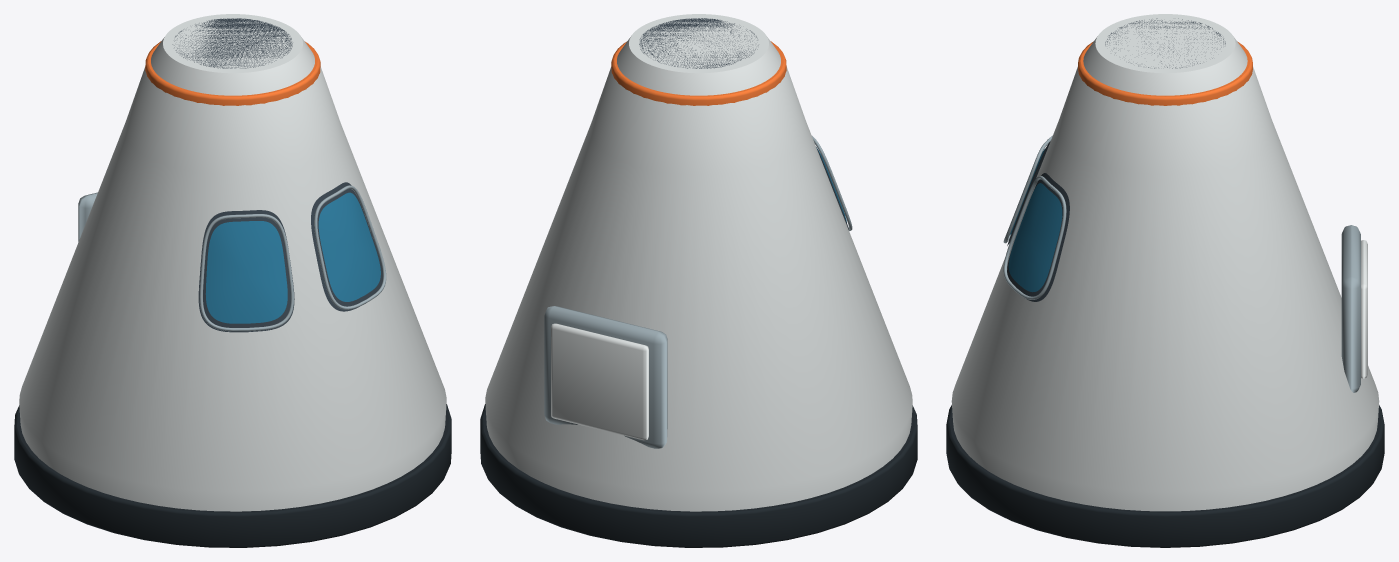
3 renders of one model, left to right at view 1: azimuth 30°, elevation 25°; view 2: azimuth 150°, elevation 25°; view 3: azimuth 270°, elevation 25°, orthographic.
Visible parts, largest first — view 1: Reentry shell; view 2: Reentry shell; view 3: Reentry shell.
Part boxes in pixels (bbox=[...]): Reentry shell: bbox=[14, 14, 451, 547]; Reentry shell: bbox=[480, 14, 917, 547]; Reentry shell: bbox=[946, 14, 1384, 547].
Bounding box in the file's own units: 1.25 × 1.3 × 1.25.
